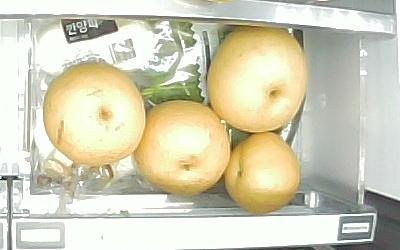pear: (43, 60, 146, 167), (207, 25, 309, 133), (139, 100, 231, 195), (224, 132, 302, 214)
